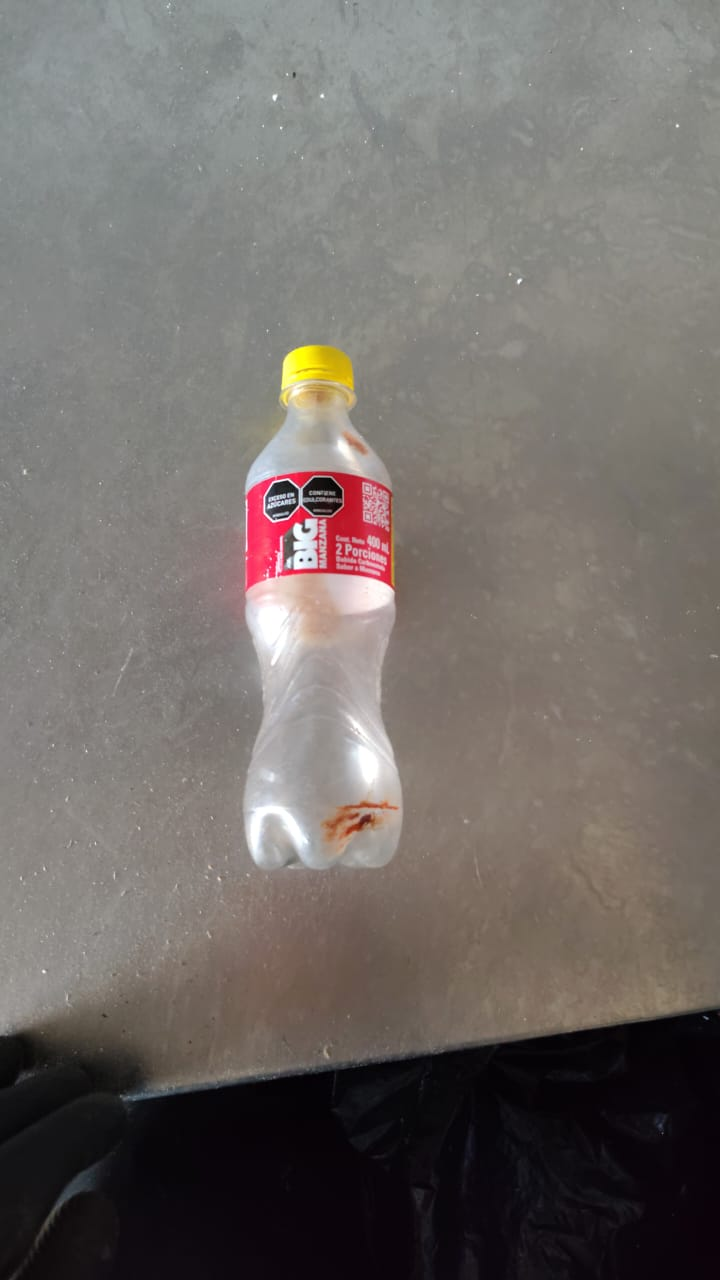Plastico: (243, 343, 402, 869)
